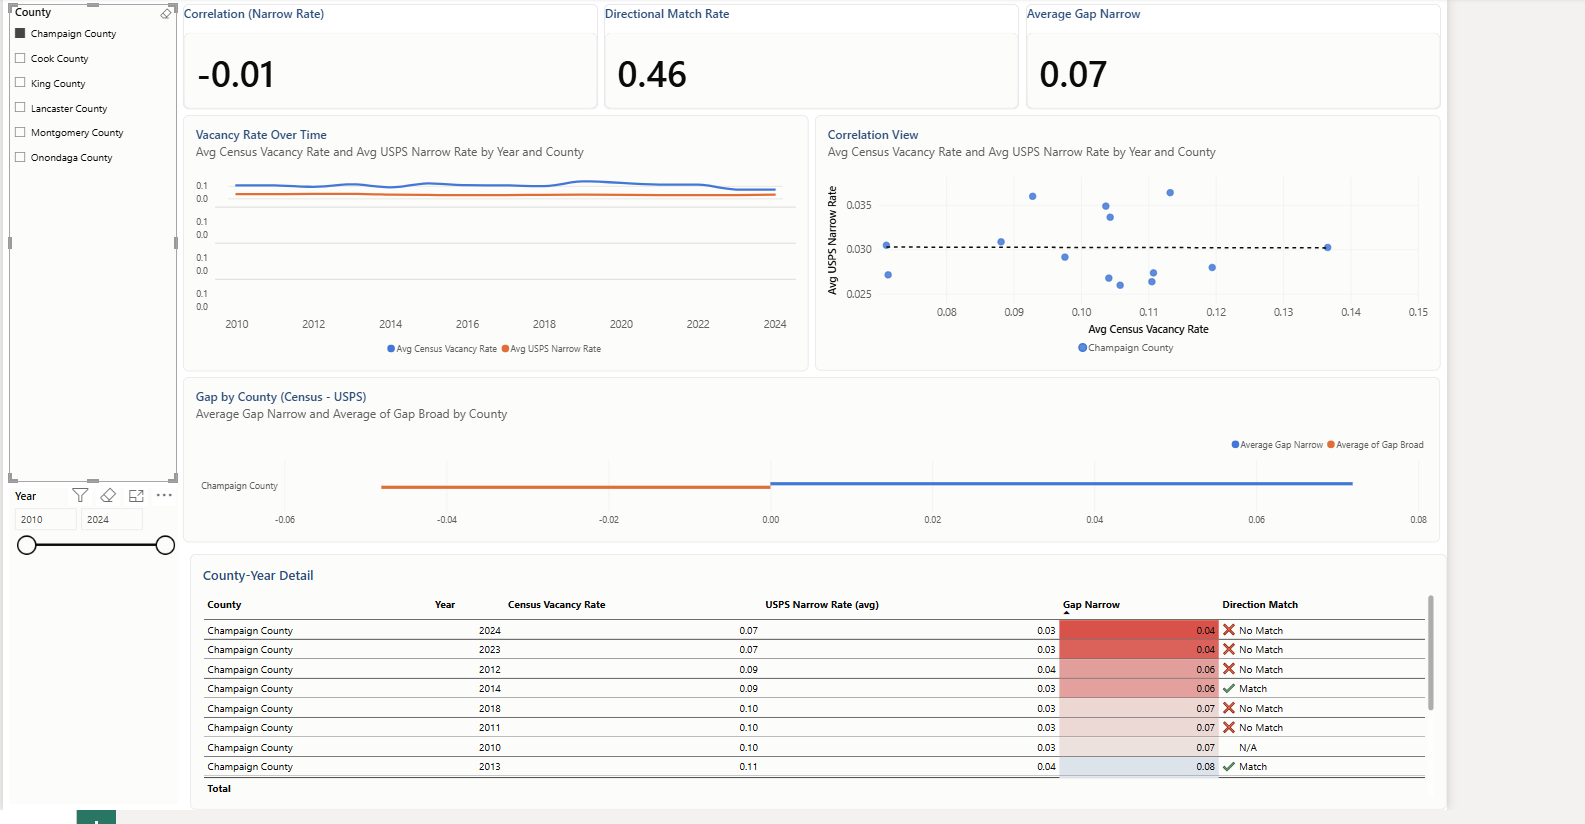

This screenshot's page, from the dashboard's own definition file:
{"tool":"powerbi","page":{"name":"Vacancy Rate","canvas":[1920,1080],"ordinal":0},"visuals":[{"type":"slicer","fields":{"Values":["Comparison.County"]},"box":[8,8,224,636],"z":0},{"type":"slicer","fields":{"Values":["Comparison.Year"]},"box":[8,652,224,420],"z":1},{"type":"cardVisual","title":"Correlation (Narrow Rate)","fields":{"Data":["Comparison.Correlation (Narrow)"]},"box":[240,8,552,140],"z":2},{"type":"cardVisual","title":"Directional Match Rate","fields":{"Data":["Comparison.Directional Match Rate"]},"box":[800,8,552,140],"z":3},{"type":"cardVisual","title":"Average Gap Narrow","fields":{"Data":["Comparison.Average Gap Narrow"]},"box":[1360,8,552,140],"z":4},{"type":"lineChart","title":"Vacancy Rate Over Time","fields":{"Category":["Comparison.Year"],"Rows":["Comparison.County"],"Y":["Comparison.Avg Census Vacancy Rate","Comparison.Avg USPS Narrow Rate"]},"box":[240,156,832,340.6],"z":5},{"type":"scatterChart","title":"Correlation View","fields":{"Category":["Comparison.Year"],"Series":["Comparison.County"],"X":["Comparison.Avg Census Vacancy Rate"],"Y":["Comparison.Avg USPS Narrow Rate"]},"box":[1080,156,832,340],"z":6},{"type":"clusteredBarChart","title":"Gap by County (Census - USPS)","fields":{"Category":["Comparison.County"],"Y":["Comparison.Average Gap Narrow","Avg(Comparison.Gap Broad)"]},"box":[240,504,1672,220],"z":7},{"type":"tableEx","title":"County-Year Detail","fields":{"Values":["Comparison.County","Comparison.Year","Comparison.Census Vacancy Rate","Comparison.USPS Narrow Rate (avg)","Comparison.Gap Narrow","Comparison.Direction Match"]},"box":[248.1,740,1672,340],"z":8}]}

Visuals, with their boxes on the page's 1920x1080 design canvas (x1, y1, x2, y2). These are canvas units, not pixel positions in the 1585x824 screenshot, which may show the page scaled, cropped or inside an application window:
slicer - Comparison.County: <bbox>8, 8, 232, 644</bbox>
slicer - Comparison.Year: <bbox>8, 652, 232, 1072</bbox>
"Correlation (Narrow Rate)" cardVisual: <bbox>240, 8, 792, 148</bbox>
"Directional Match Rate" cardVisual: <bbox>800, 8, 1352, 148</bbox>
"Average Gap Narrow" cardVisual: <bbox>1360, 8, 1912, 148</bbox>
"Vacancy Rate Over Time" lineChart: <bbox>240, 156, 1072, 497</bbox>
"Correlation View" scatterChart: <bbox>1080, 156, 1912, 496</bbox>
"Gap by County (Census - USPS)" clusteredBarChart: <bbox>240, 504, 1912, 724</bbox>
"County-Year Detail" tableEx: <bbox>248, 740, 1920, 1080</bbox>
